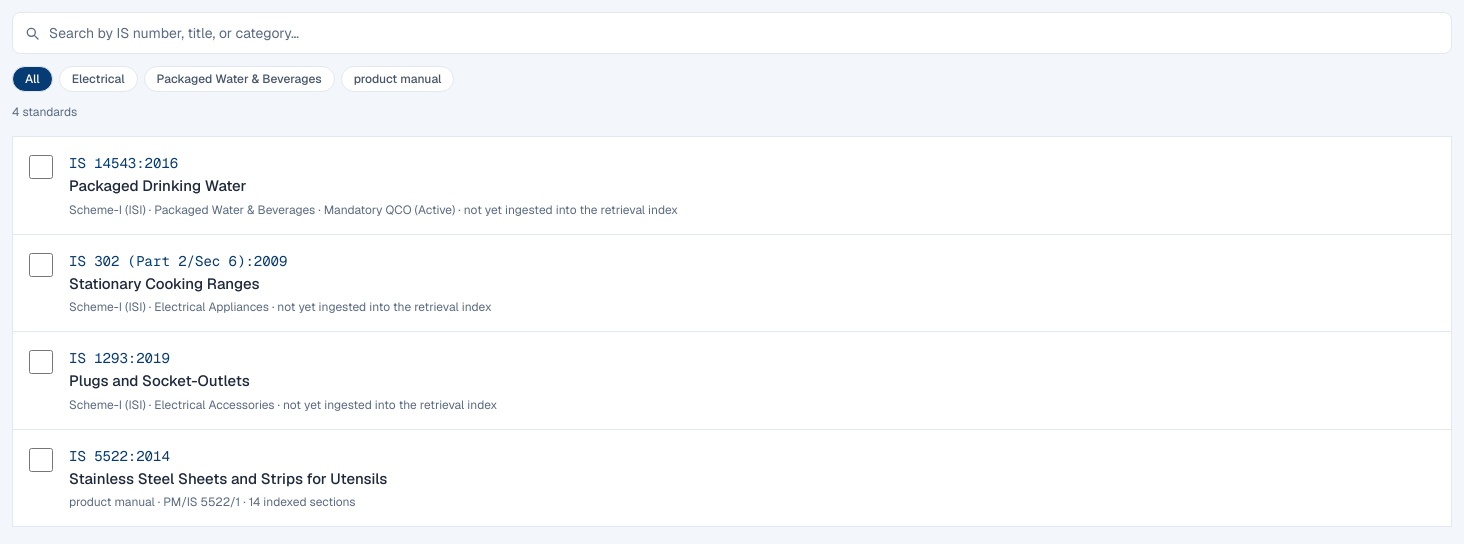
Test: StandardsListClient › an empty result explains itself and can be cleared
Type "zzz" into the search field named "Search standards". click: (732, 33)
box: [12, 12, 1452, 54]
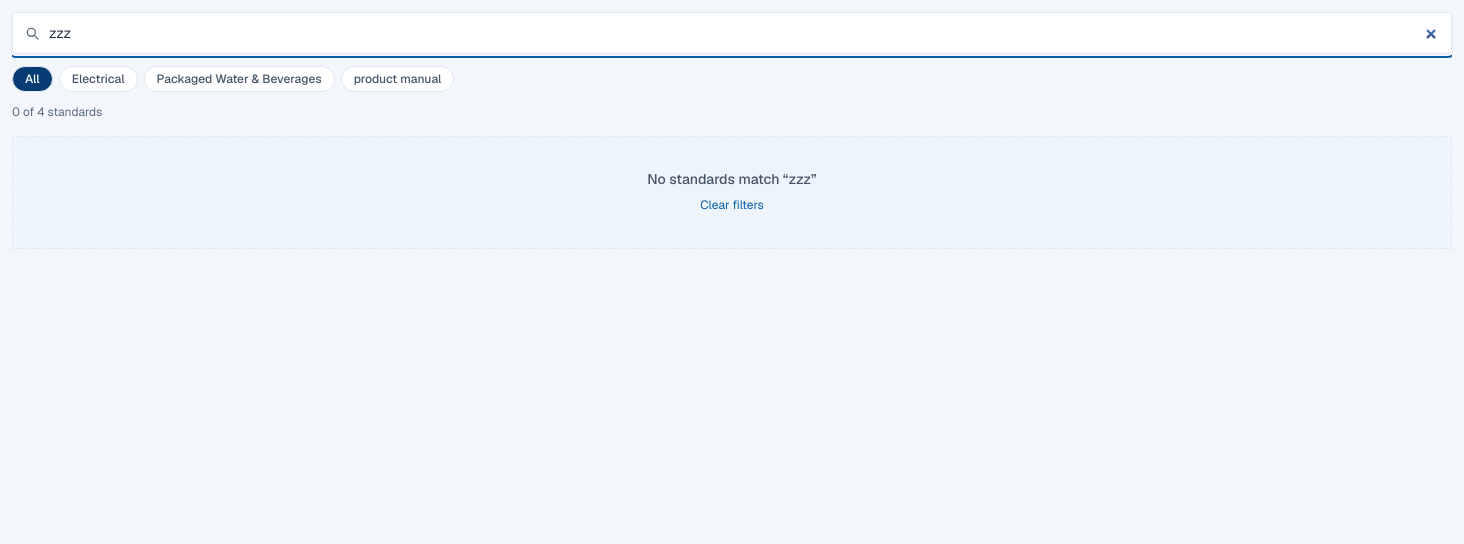
Now the text "No standards match “zzz”" is shown, box [647, 170, 817, 188]
Click the button "Clear filters". click: (732, 205)
box: [700, 197, 764, 213]
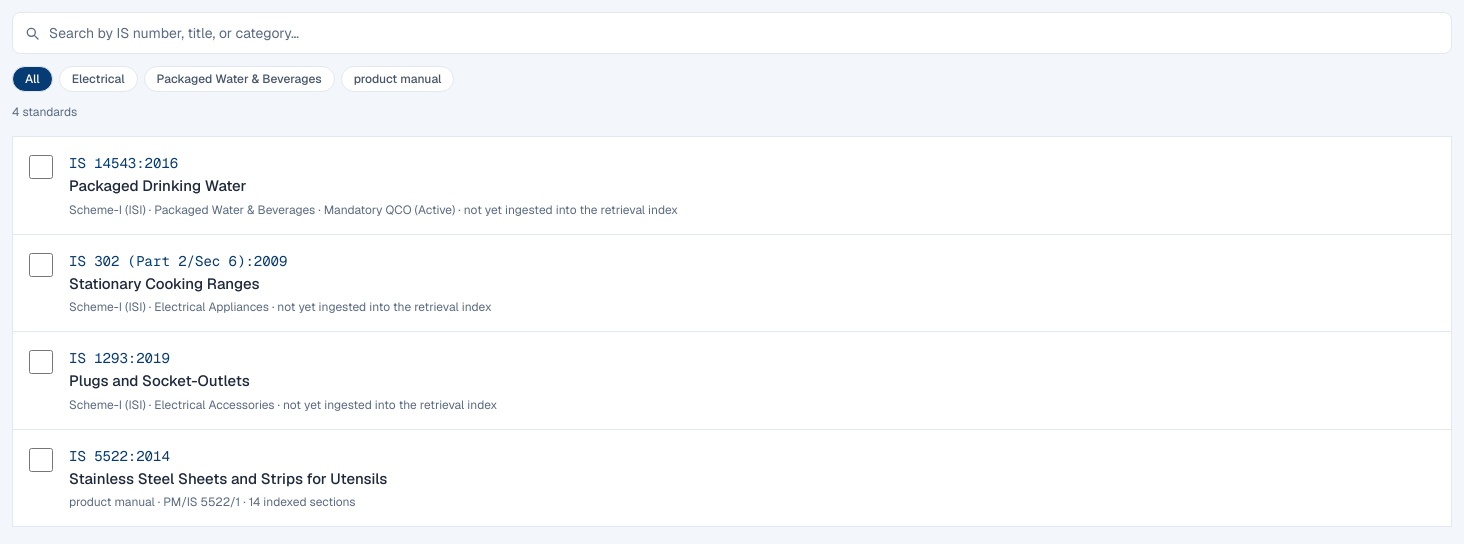
Now the number of checkboxes is 4, box [29, 155, 53, 179]; [29, 252, 53, 276]; [29, 350, 53, 374]; [29, 448, 53, 472]
